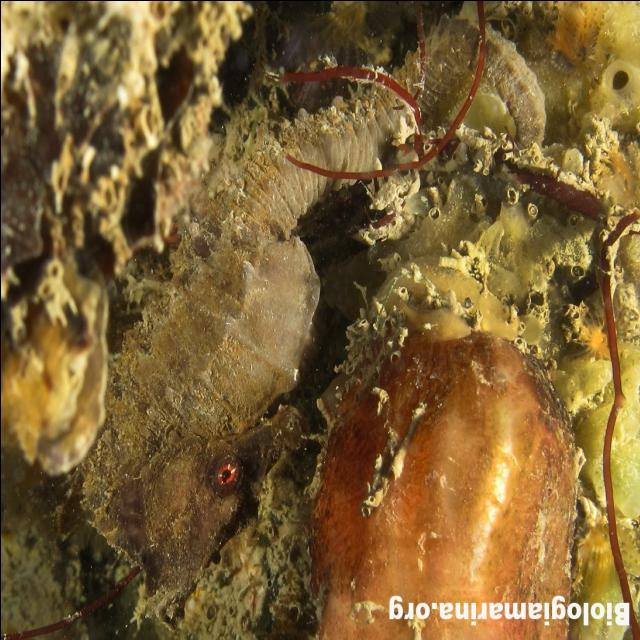Hippo: (134, 390, 308, 608)
